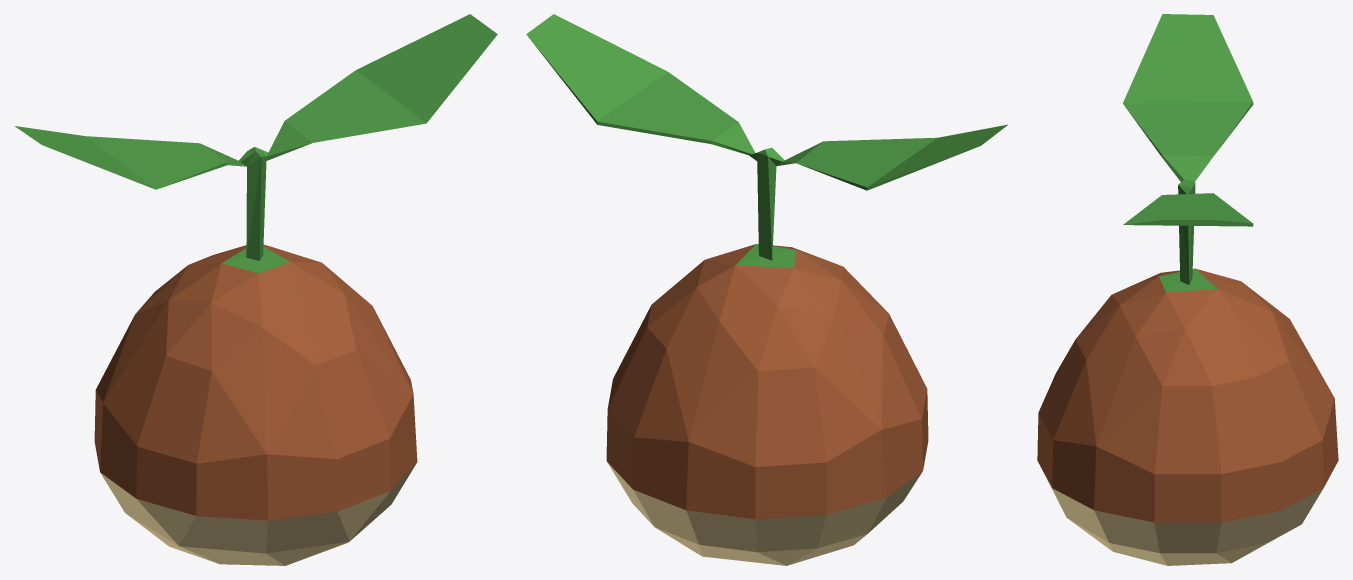
Rendered from Seed_Triangles_V2.fbx.
3 renders of one model, left to right at view 1: azimuth 30°, elevation 25°; view 2: azimuth 150°, elevation 25°; view 3: azimuth 270°, elevation 25°, orthographic. The views are drawn at different scales.
Parts seen in each view (by area): view 1: Seed_V2.001; view 2: Seed_V2.001; view 3: Seed_V2.001.
Part boxes in pixels (x1,y1,x2,y2): Seed_V2.001: (15, 14, 497, 565); Seed_V2.001: (526, 14, 1007, 565); Seed_V2.001: (1037, 14, 1338, 565).
Size of the model in its own units: 352 by 337 by 218.
